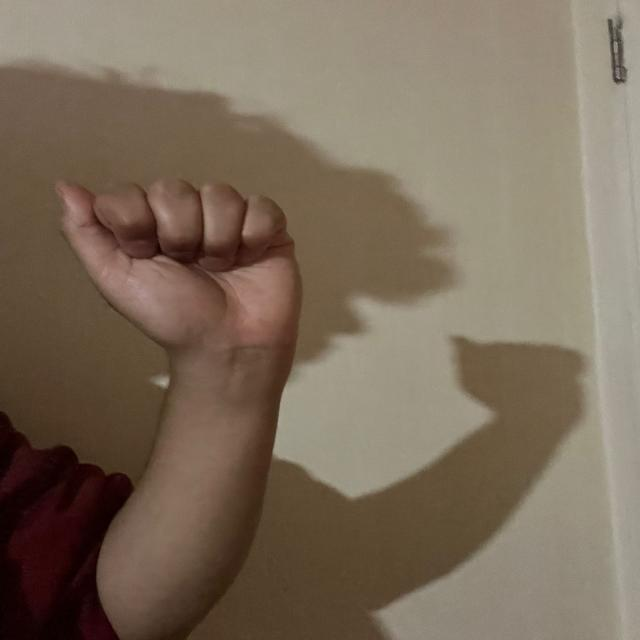A: (52, 177, 316, 367)
